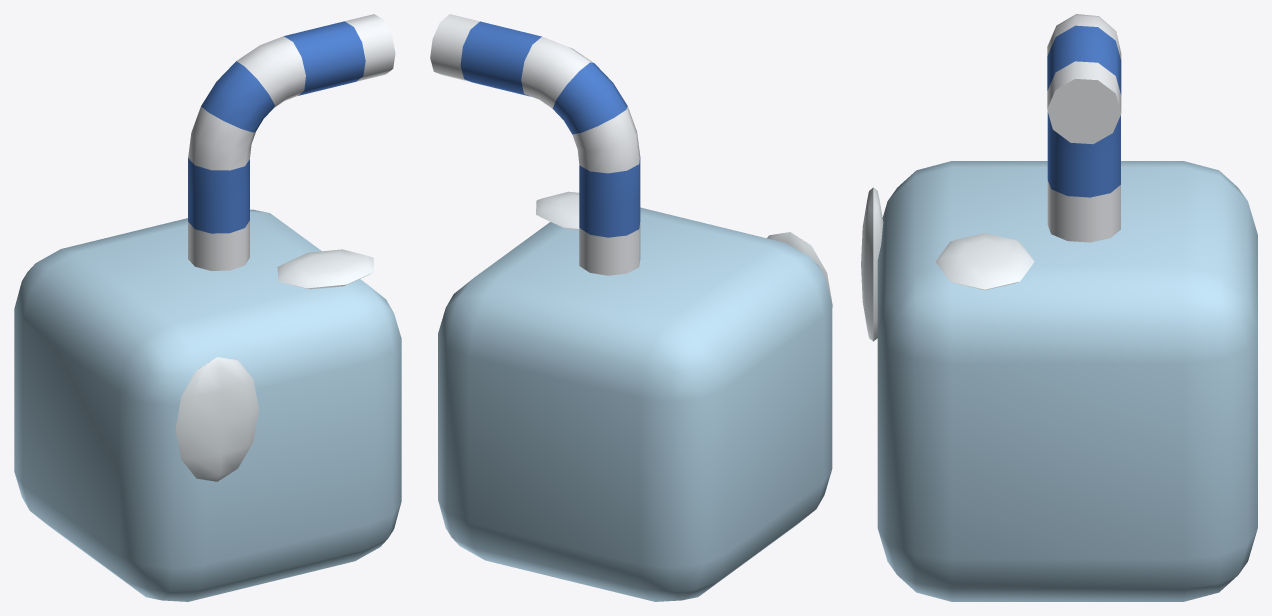
Rendered from sig_icecube.gltf.
The picture shows the model from 3 angles, left to right: view 1: azimuth 30°, elevation 25°; view 2: azimuth 150°, elevation 25°; view 3: azimuth 270°, elevation 25°; orthographic projection. The views are drawn at different scales.
Visible parts, largest first — view 1: sig_icecube; view 2: sig_icecube; view 3: sig_icecube.
Part boxes in pixels (bbox=[...]): sig_icecube: bbox=[14, 14, 401, 601]; sig_icecube: bbox=[430, 14, 832, 601]; sig_icecube: bbox=[861, 14, 1257, 601].
Size of the model in its own units: 1 by 1.44 by 0.9057.
